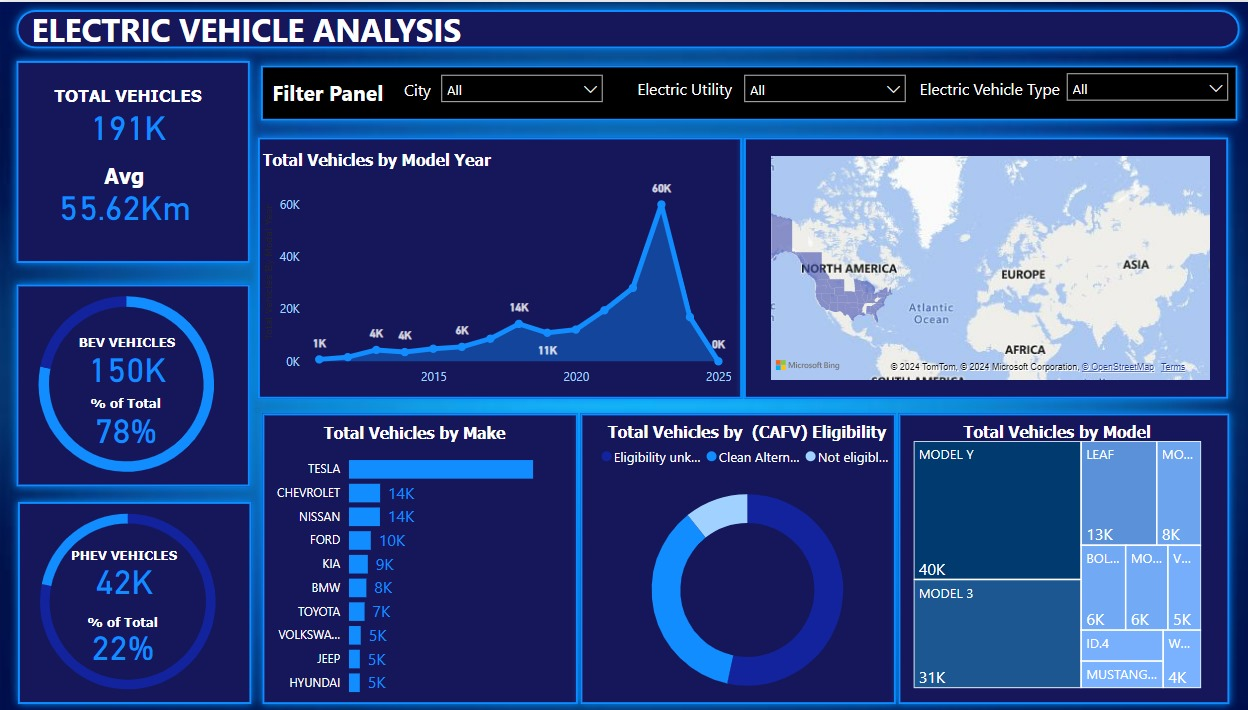

The dashboard page shown, as its layout file describes it:
{"tool":"powerbi","page":{"name":"Page 1","canvas":[1280,720],"ordinal":0},"visuals":[{"type":"shape","box":[10,0,1251,55],"z":0},{"type":"textbox","box":[28.3,0,806.7,51.7],"z":1000},{"type":"shape","box":[10,51.7,251.7,220],"z":2000},{"type":"card","title":"TOTAL VEHICLES","fields":{"Values":["Electric_Vehicle_Population_Data.Total Vehicles"]},"box":[28.3,83.3,205,66.7],"z":3000},{"type":"card","title":"Avg","fields":{"Values":["Electric_Vehicle_Population_Data.AVG RANGE"]},"box":[0,161.7,255,65],"z":4000},{"type":"shape","box":[10,276.7,251.7,220],"z":5000},{"type":"shape","box":[11.7,496.7,251.7,220],"z":6000},{"type":"donutChart","fields":{"Category":["Electric_Vehicle_Population_Data.Electric Vehicle Type"],"Y":["Electric_Vehicle_Population_Data.Total Vehicles"]},"box":[0,270,258.3,231.7],"z":7000},{"type":"card","title":"BEV VEHICLES","fields":{"Values":["Electric_Vehicle_Population_Data.BEV Vehicles"]},"box":[56.7,335,148.3,56.7],"z":8000},{"type":"card","title":"% of Total","fields":{"Values":["Electric_Vehicle_Population_Data.% of BEV"]},"box":[55,396.7,148.3,56.7],"z":9000},{"type":"donutChart","fields":{"Category":["Electric_Vehicle_Population_Data.Electric Vehicle Type"],"Y":["Electric_Vehicle_Population_Data.Total Vehicles"]},"box":[1.7,488.3,258.3,231.7],"z":10000},{"type":"card","title":"PHEV VEHICLES","fields":{"Values":["Electric_Vehicle_Population_Data.PHEV Vehicles"]},"box":[53.1,550.2,148.5,56.3],"z":11000},{"type":"card","title":"% of Total","fields":{"Values":["Electric_Vehicle_Population_Data.% of PHEV"]},"box":[53.1,617.4,145.4,51.6],"z":12000},{"type":"shape","box":[257.9,56.3,1001.9,71.9],"z":13000},{"type":"shape","box":[254.8,128.2,504.8,279.8],"z":14000},{"type":"areaChart","fields":{"Category":["Electric_Vehicle_Population_Data.Model Year"],"Y":["Electric_Vehicle_Population_Data.Total Vehicles"]},"box":[262.6,150,483,247],"z":15000},{"type":"shape","box":[745.5,128.2,504.8,279.8],"z":16000},{"type":"filledMap","title":"Total Vehicles by State","fields":{"Category":["Electric_Vehicle_Population_Data.State"]},"box":[775.2,150,453.3,236],"z":17000},{"type":"shape","box":[259.5,407.9,334.5,309.5],"z":18000},{"type":"barChart","fields":{"Category":["Electric_Vehicle_Population_Data.Make"],"Y":["Electric_Vehicle_Population_Data.Total Vehicles"]},"box":[262.6,425.1,317.3,286],"z":19000},{"type":"shape","box":[579.9,407.9,334.5,309.5],"z":20000},{"type":"donutChart","title":"Total Vehicles by  (CAFV) Eligibility","fields":{"Category":["Electric_Vehicle_Population_Data.Clean Alternative Fuel Vehicle (CAFV) Eligibility"],"Y":["Electric_Vehicle_Population_Data.Total Vehicles"]},"box":[593.9,423.6,325.1,295.4],"z":21000},{"type":"shape","box":[900.3,407.9,350.1,309.5],"z":22000},{"type":"treemap","fields":{"Group":["Electric_Vehicle_Population_Data.Model"],"Values":["Electric_Vehicle_Population_Data.Total Vehicles"]},"box":[919,423.6,300.1,273.5],"z":23000},{"type":"textbox","box":[270.7,71.4,123.6,45],"z":24000},{"type":"slicer","fields":{"Values":["Electric_Vehicle_Population_Data.City"]},"box":[437.1,63.6,182.9,50],"z":25000},{"type":"textbox","box":[394.3,72.1,59.3,32.9],"z":26000},{"type":"slicer","fields":{"Values":["Electric_Vehicle_Population_Data.City"]},"box":[742.9,63.6,182.9,50],"z":27000},{"type":"textbox","box":[635.7,71.4,114.3,40.7],"z":28000},{"type":"slicer","fields":{"Values":["Electric_Vehicle_Population_Data.City"]},"box":[1069.1,62.5,182.9,50],"z":29000},{"type":"textbox","box":[925.7,71.4,152.1,32.9],"z":30000}]}

Visuals, with their boxes in screenshot pixels (x1, y1, x2, y2), scaled from the page's 1280x720 canvas onto the 1248x710 screenshot:
shape: (10, 0, 1229, 54)
textbox: (28, 0, 814, 51)
shape: (10, 51, 255, 268)
"TOTAL VEHICLES" card: (28, 82, 227, 148)
"Avg" card: (0, 159, 249, 224)
shape: (10, 273, 255, 490)
shape: (11, 490, 257, 707)
donutChart - Electric_Vehicle_Population_Data.Electric Vehicle Type x Electric_Vehicle_Population_Data.Total Vehicles: (0, 266, 252, 495)
"BEV VEHICLES" card: (55, 330, 200, 386)
"% of Total" card: (54, 391, 198, 447)
donutChart - Electric_Vehicle_Population_Data.Electric Vehicle Type x Electric_Vehicle_Population_Data.Total Vehicles: (2, 482, 254, 709)
"PHEV VEHICLES" card: (52, 543, 197, 598)
"% of Total" card: (52, 609, 194, 660)
shape: (251, 56, 1228, 126)
shape: (248, 126, 741, 402)
areaChart - Electric_Vehicle_Population_Data.Model Year x Electric_Vehicle_Population_Data.Total Vehicles: (256, 148, 727, 391)
shape: (727, 126, 1219, 402)
"Total Vehicles by State" filledMap: (756, 148, 1198, 381)
shape: (253, 402, 579, 707)
barChart - Electric_Vehicle_Population_Data.Make x Electric_Vehicle_Population_Data.Total Vehicles: (256, 419, 565, 701)
shape: (565, 402, 892, 707)
"Total Vehicles by  (CAFV) Eligibility" donutChart: (579, 418, 896, 709)
shape: (878, 402, 1219, 707)
treemap - Electric_Vehicle_Population_Data.Model x Electric_Vehicle_Population_Data.Total Vehicles: (896, 418, 1189, 687)
textbox: (264, 70, 384, 115)
slicer - Electric_Vehicle_Population_Data.City: (426, 63, 604, 112)
textbox: (384, 71, 442, 104)
slicer - Electric_Vehicle_Population_Data.City: (724, 63, 903, 112)
textbox: (620, 70, 731, 111)
slicer - Electric_Vehicle_Population_Data.City: (1042, 62, 1221, 111)
textbox: (903, 70, 1051, 103)
